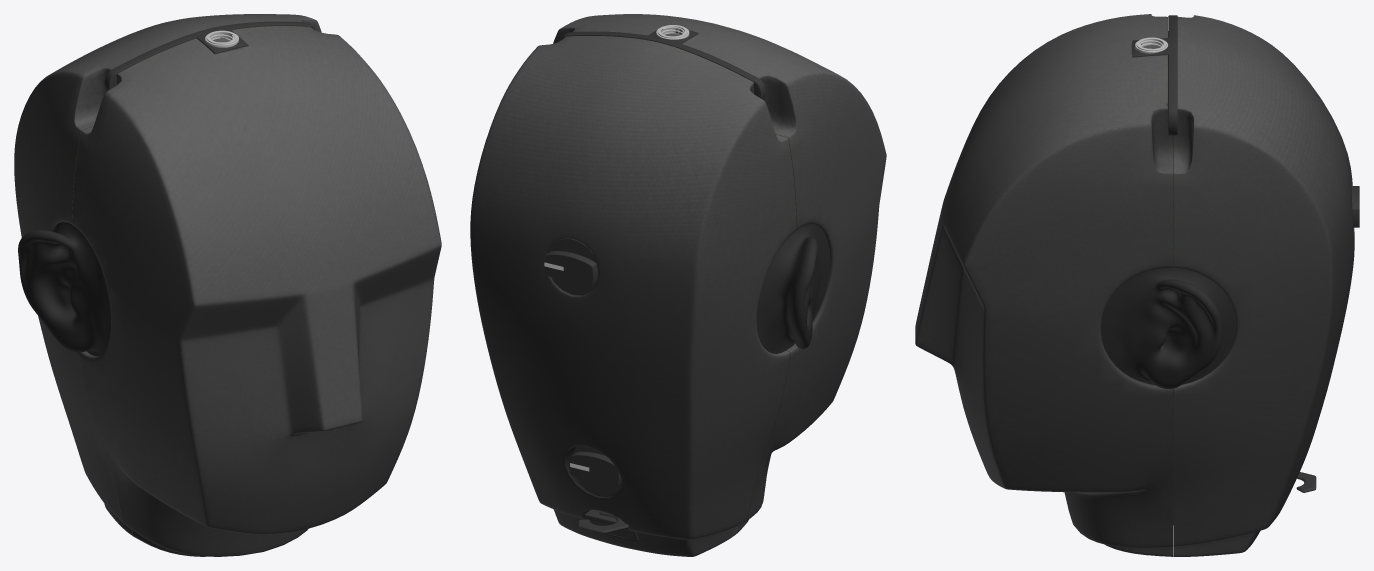
The model's file is head.glb.
The picture shows the model from 3 angles, left to right: view 1: azimuth 30°, elevation 25°; view 2: azimuth 150°, elevation 25°; view 3: azimuth 270°, elevation 25°; orthographic projection. The views are drawn at different scales.
Visible parts, largest first — view 1: Front, Back, Ears, Bracket01; view 2: Back, Front, Ears, Bolt01, Bolt02, Bracket01, BracketBack01, BracketBack02; view 3: Front, Back, Ears, Bracket01.
Part boxes in pixels (left/top/right/bottom): Front: left=72, top=26, right=441, bottom=556; Back: left=14, top=14, right=321, bottom=536; Ears: left=18, top=222, right=110, bottom=356; Bracket01: left=104, top=21, right=316, bottom=91; Back: left=470, top=36, right=796, bottom=556; Front: left=553, top=14, right=886, bottom=532; Ears: left=756, top=224, right=830, bottom=353; Bolt01: left=544, top=238, right=599, bottom=295; Bolt02: left=570, top=446, right=621, bottom=496; Bracket01: left=559, top=25, right=765, bottom=99; BracketBack01: left=584, top=509, right=638, bottom=540; BracketBack02: left=577, top=511, right=628, bottom=533; Front: left=915, top=14, right=1173, bottom=556; Back: left=1173, top=15, right=1354, bottom=556; Ears: left=1101, top=166, right=1236, bottom=397; Bracket01: left=1132, top=15, right=1177, bottom=165.
Size of the model in its own units: 0.1815 by 0.2457 by 0.2076.
6 materials, 2 textured.
